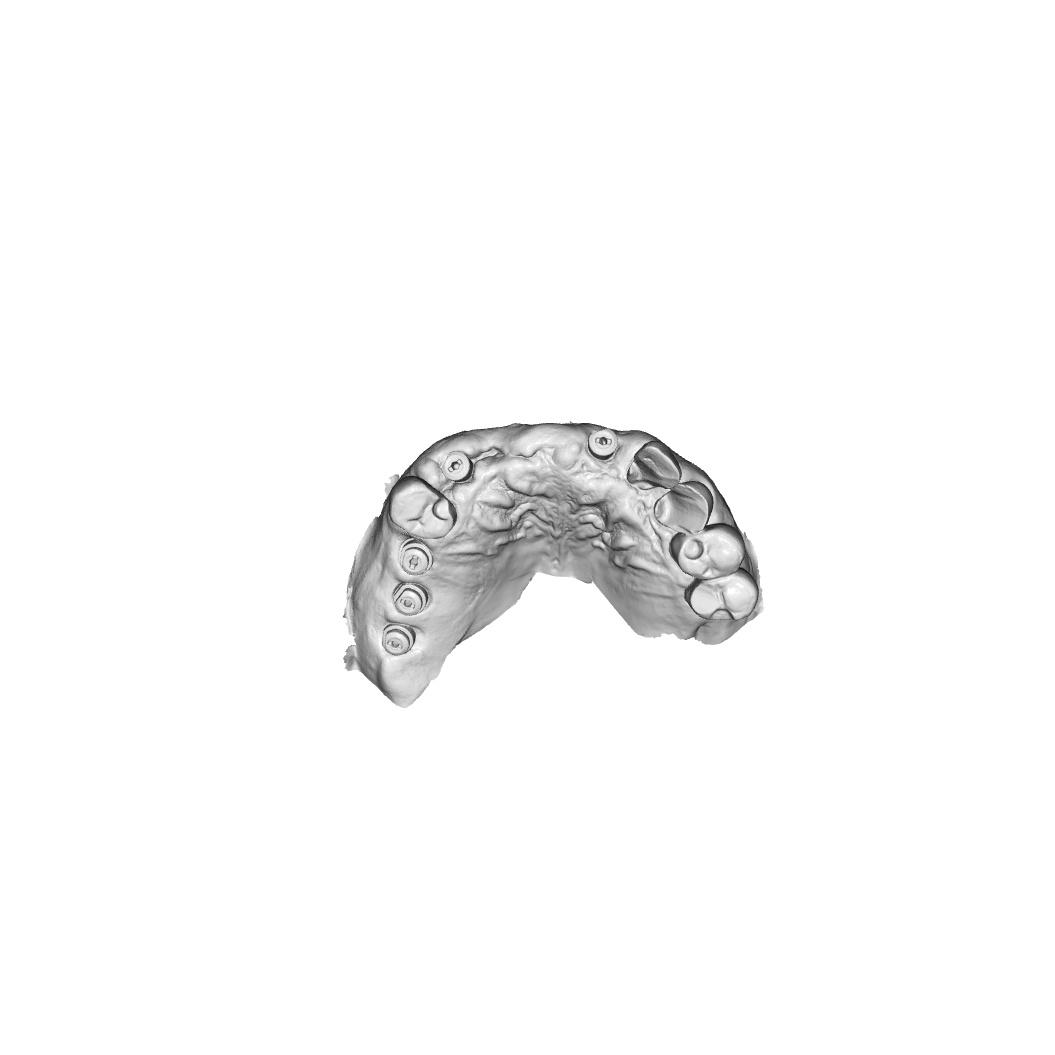canine: (626, 440, 682, 490)
implant_minus: (398, 537, 434, 576), (392, 580, 429, 617), (381, 621, 416, 657), (440, 450, 474, 484), (587, 427, 619, 461)
molar: (684, 566, 760, 621)
premolar: (388, 475, 458, 540), (669, 522, 746, 580), (653, 480, 714, 534)
